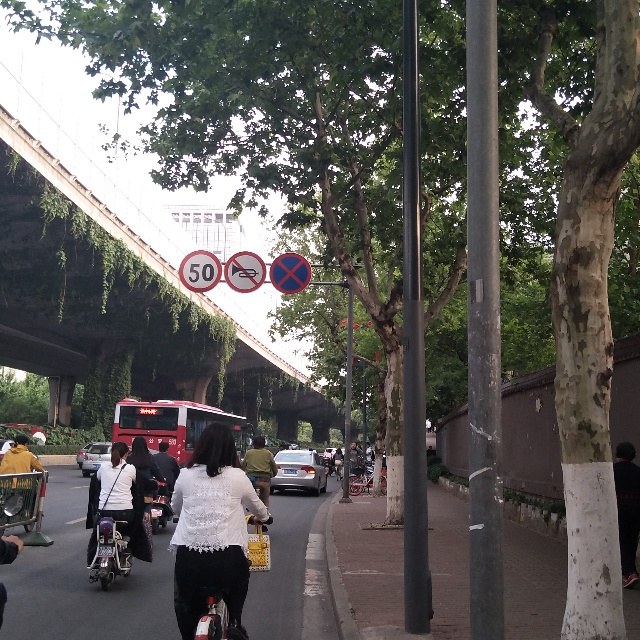nohonk: (230, 255, 261, 289)
stop: (272, 258, 307, 288)
